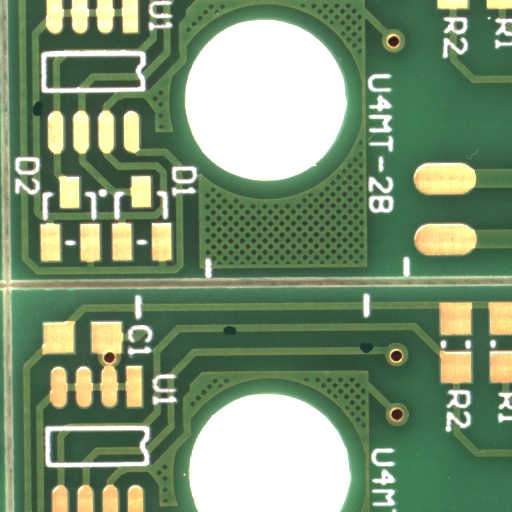Mouse_bite: (37, 108, 49, 122), (366, 347, 380, 358), (229, 330, 243, 340)
